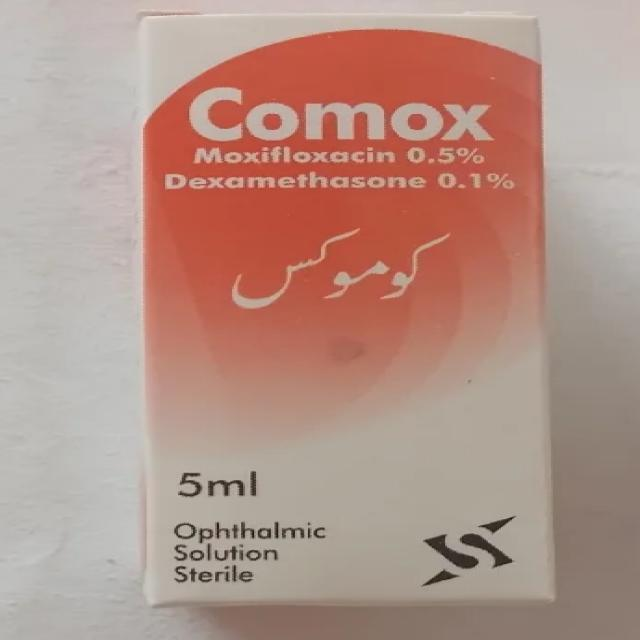drug-name: (187, 84, 498, 143)
